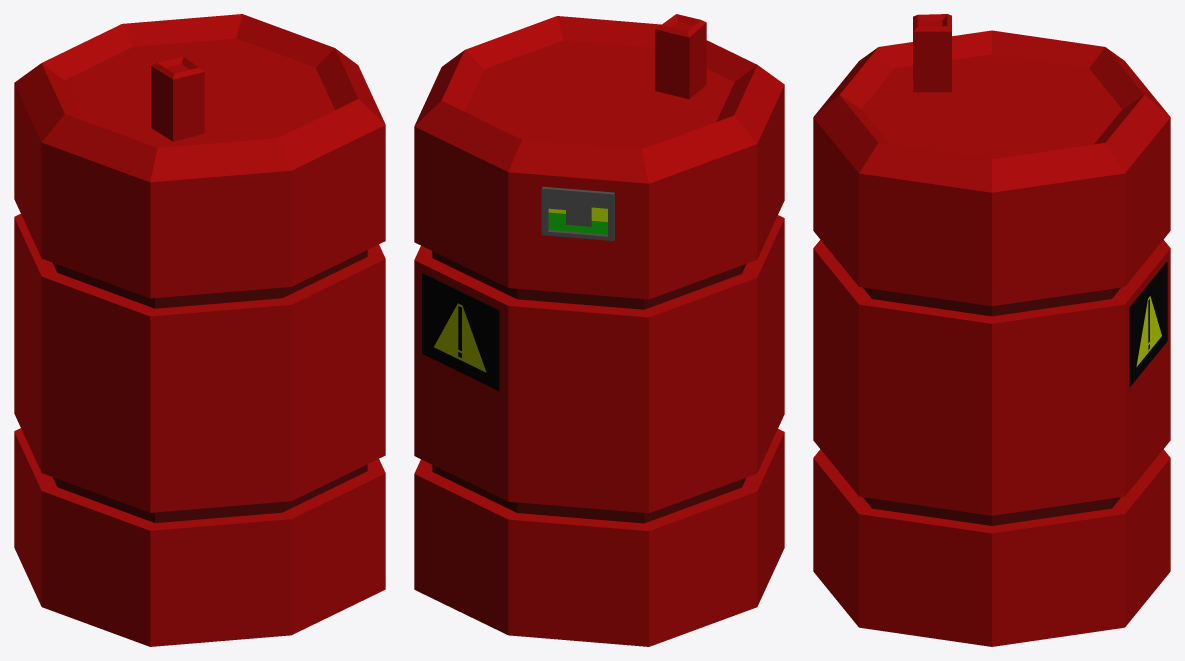
Rendered from Barrel.fbx.
The picture shows the model from 3 angles, left to right: view 1: azimuth 30°, elevation 25°; view 2: azimuth 150°, elevation 25°; view 3: azimuth 270°, elevation 25°; orthographic projection. The views are drawn at different scales.
Parts seen in each view (by area): view 1: Barrel; view 2: Barrel, Panel, Electronic Panel; view 3: Barrel, Panel.
Boxes of the visible parts, bbox=[...] form: Barrel: bbox=[14, 14, 385, 646]; Barrel: bbox=[414, 14, 784, 646]; Panel: bbox=[422, 273, 499, 390]; Electronic Panel: bbox=[541, 186, 614, 240]; Barrel: bbox=[813, 14, 1170, 646]; Panel: bbox=[1129, 262, 1167, 386].
Bounding box in the file's own units: 269 × 437 × 269.
